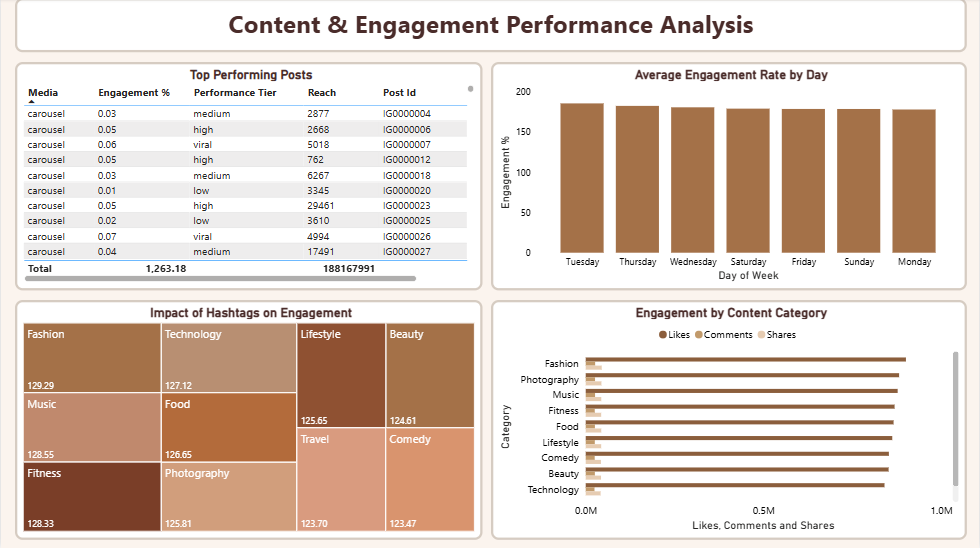

What the dashboard file says about the page in this screenshot:
{"tool":"powerbi","page":{"name":"Page 2","canvas":[1280,720],"ordinal":1},"visuals":[{"type":"textbox","box":[18.5,0,1246.4,70.6],"z":0},{"type":"clusteredBarChart","title":"Engagement by Content Category","fields":{"Category":["Instagram_Analytics.content_category"],"Y":["Sum(Instagram_Analytics.likes)","Sum(Instagram_Analytics.comments)","Sum(Instagram_Analytics.shares)"]},"box":[641.4,395,623.5,313.8],"z":1000},{"type":"clusteredColumnChart","title":"Average Engagement Rate by Day","fields":{"Category":["Instagram_Analytics.day_of_week"],"Y":["Sum(Instagram_Analytics.engagement_rate)"]},"box":[641.4,84,623.5,298.7],"z":2000},{"type":"treemap","title":"Impact of Hashtags on Engagement","fields":{"Group":["Instagram_Analytics.content_category"],"Values":["Sum(Instagram_Analytics.engagement_rate)"]},"box":[17.9,395,612.5,313.8],"z":3000},{"type":"tableEx","title":"Top Performing Posts","fields":{"Values":["Instagram_Analytics.media_type","Sum(Instagram_Analytics.engagement_rate)","Instagram_Analytics.performance_bucket_label","Sum(Instagram_Analytics.reach)","Instagram_Analytics.post_id"]},"box":[17.9,84,612.5,298.7],"z":4000}]}

Visuals, with their boxes in screenshot pixels (x1, y1, x2, y2), scaled from the page's 1280x720 canvas onto the 980x548 screenshot:
textbox: <box>14,0,968,54</box>
"Engagement by Content Category" clusteredBarChart: <box>491,301,968,539</box>
"Average Engagement Rate by Day" clusteredColumnChart: <box>491,64,968,291</box>
"Impact of Hashtags on Engagement" treemap: <box>14,301,483,539</box>
"Top Performing Posts" tableEx: <box>14,64,483,291</box>
